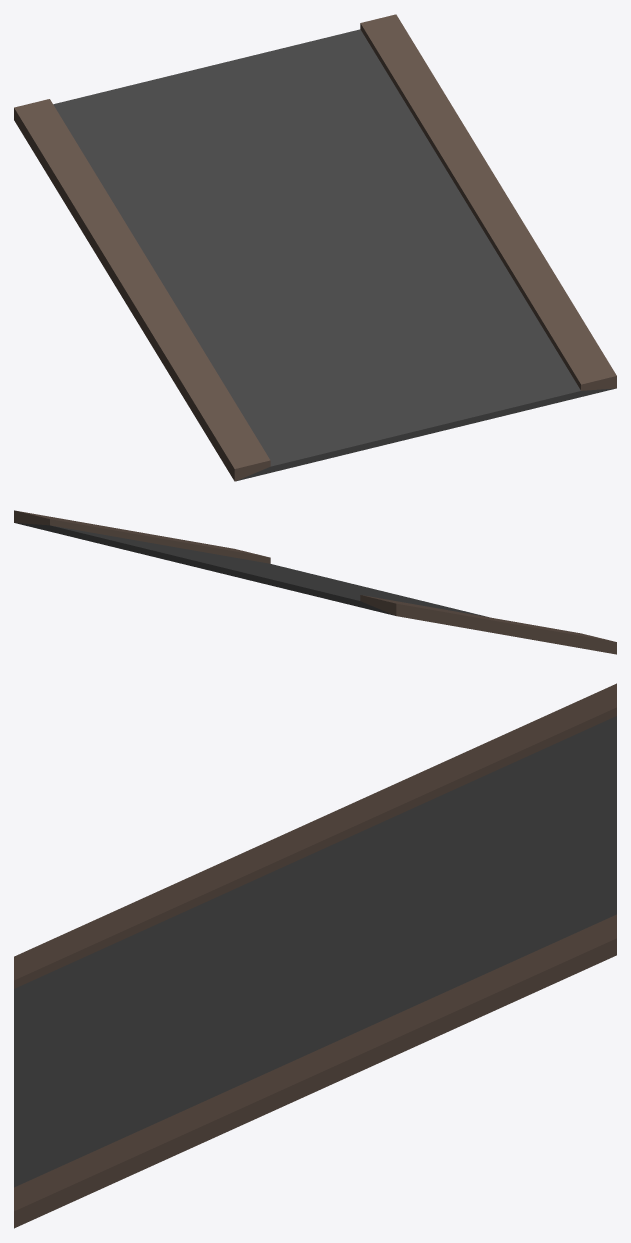
The model's file is left_high_right.glb.
3 views of the same model, one above another, from view 1: azimuth 30°, elevation 25°; view 2: azimuth 150°, elevation 25°; view 3: azimuth 270°, elevation 25° (orthographic). The views are drawn at different scales.
Visible parts, largest first — view 1: Maxis-3d1-mesh-63; view 2: Maxis-3d1-mesh-63; view 3: Maxis-3d1-mesh-63.
Boxes of the visible parts, x1,y1,x2,y2 form: Maxis-3d1-mesh-63: (14,14,616,481); Maxis-3d1-mesh-63: (14,510,616,654); Maxis-3d1-mesh-63: (14,683,616,1228).
Bounding box in the file's own units: 16 × 8.5 × 16.
